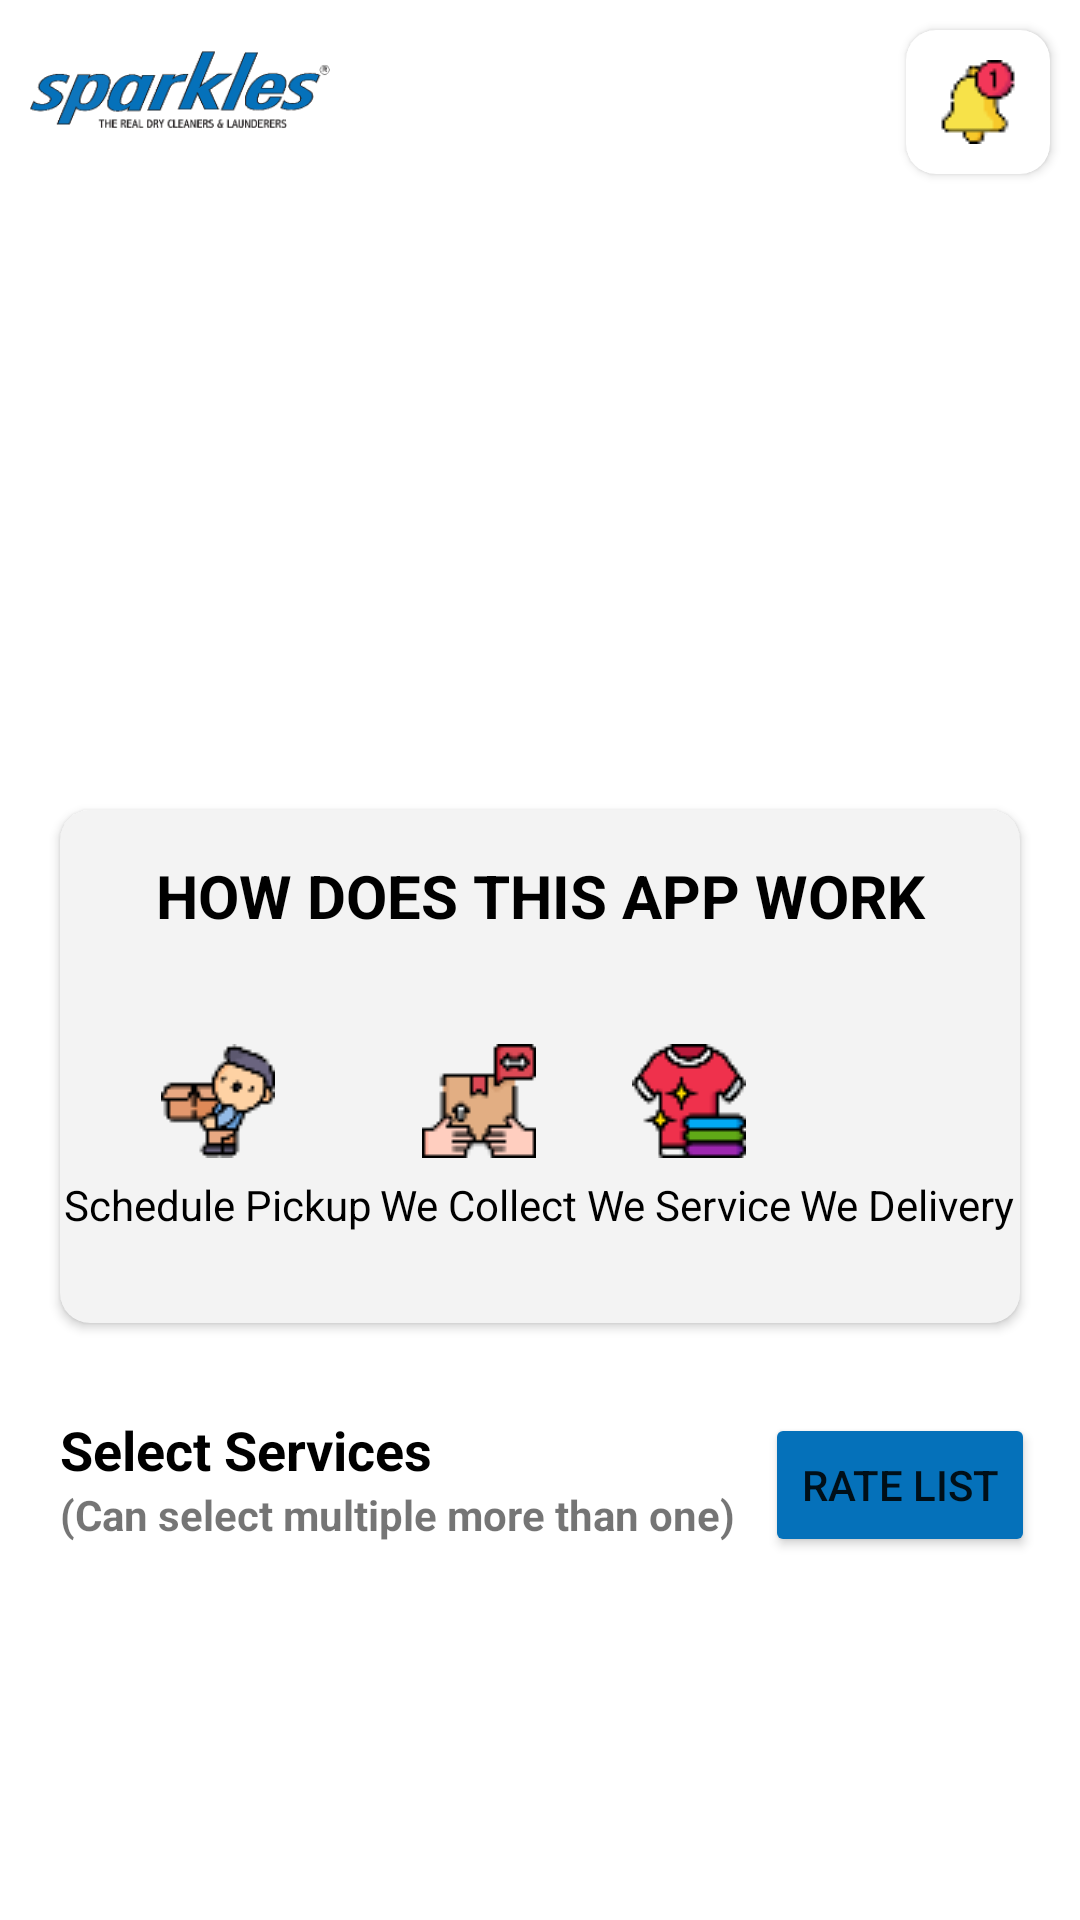

Point at icon controls on the screen. Image size 1080px x 1920px, points as point (x, y).
laund: point (689, 1101)
notification: point (978, 102)
